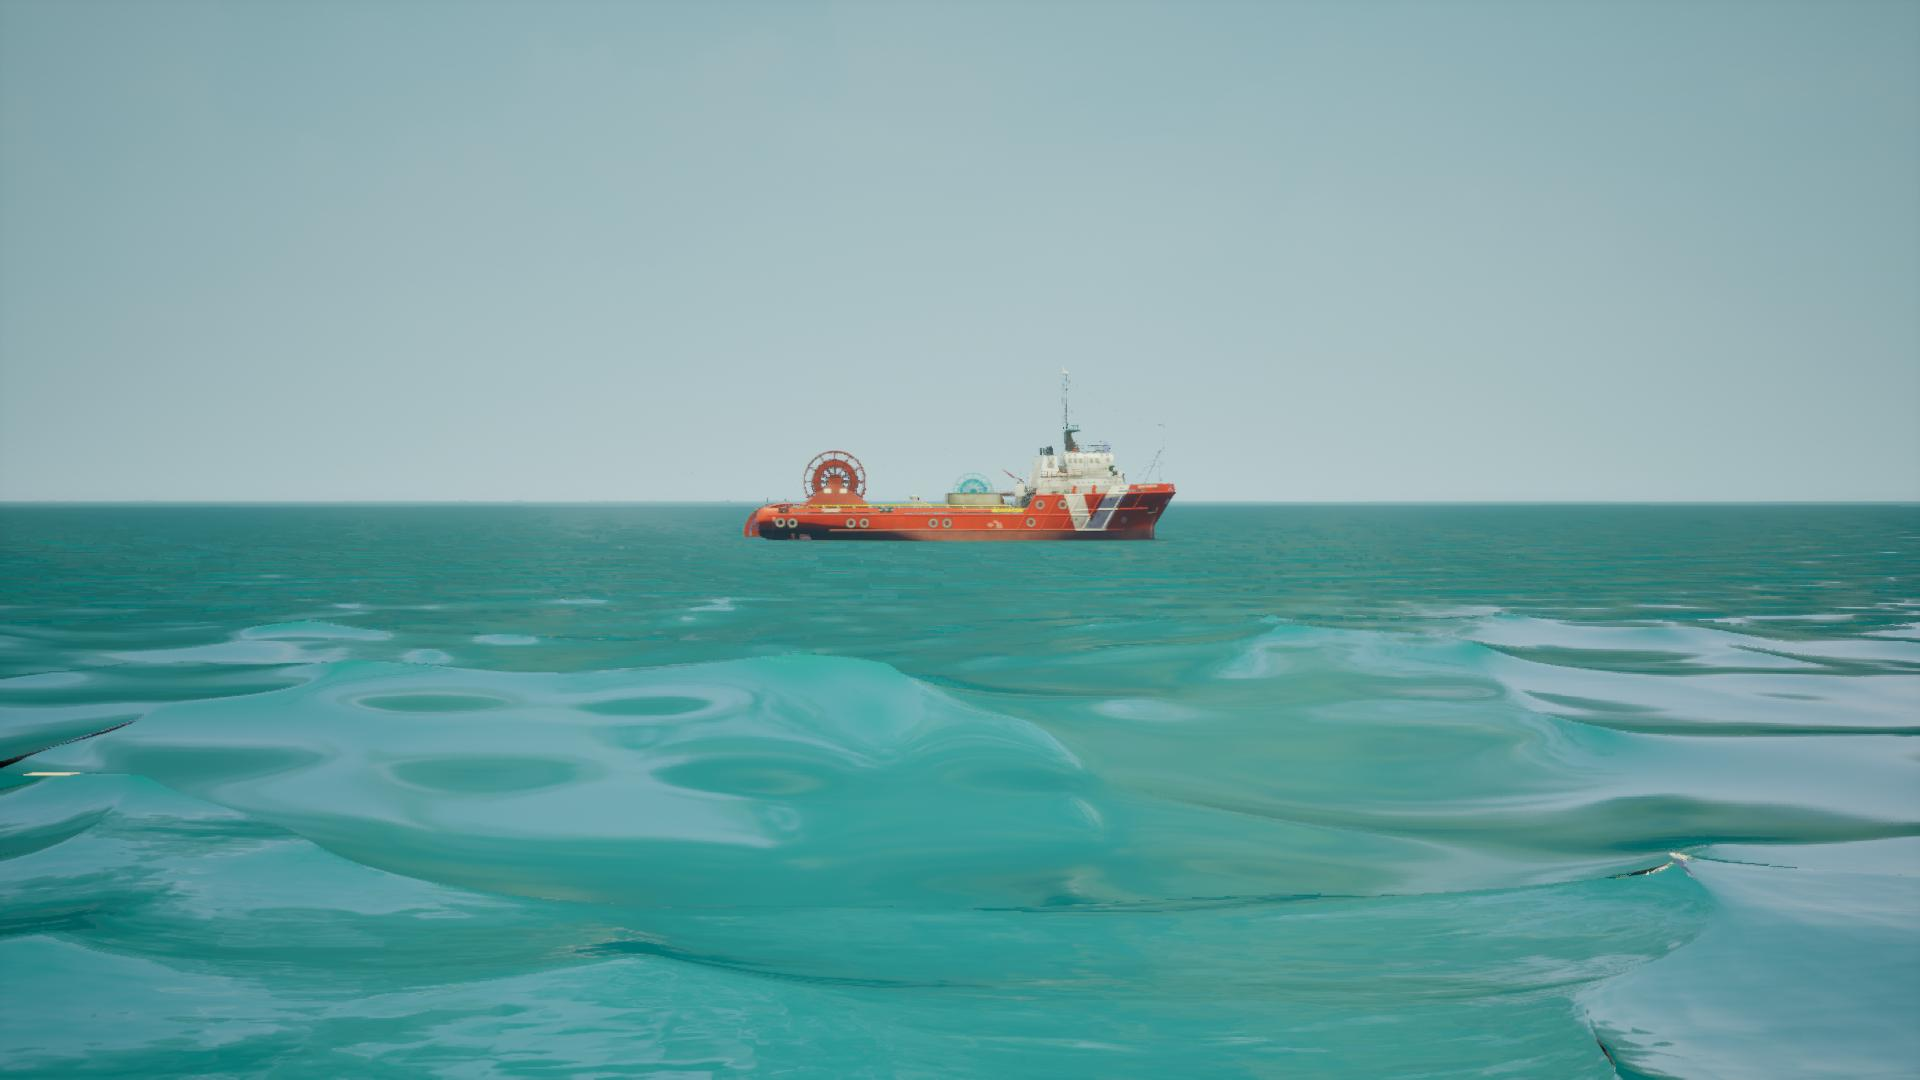Tug Boat: (745, 375, 1182, 543)
